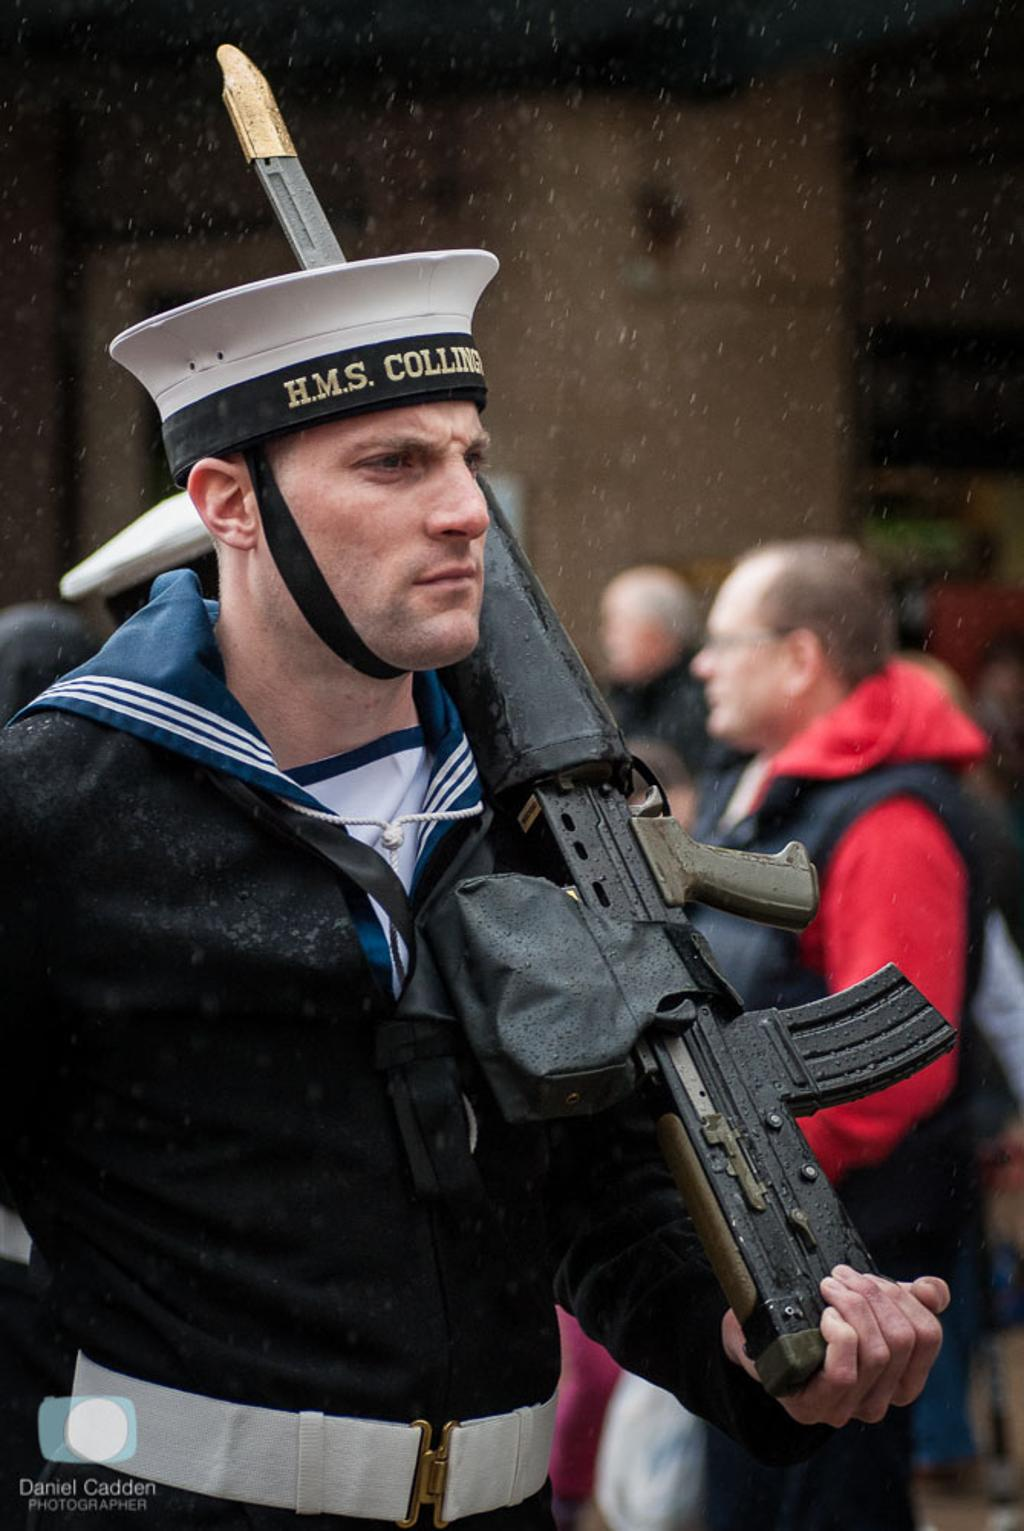face: (287, 355, 490, 662), (693, 552, 786, 725)
